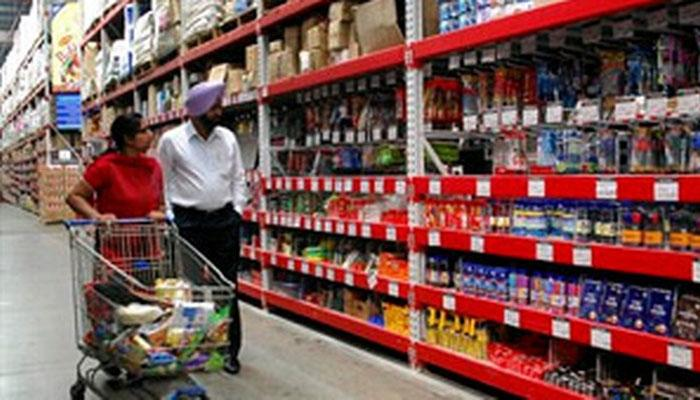Age_30_40: (184, 81, 230, 133), (110, 114, 163, 151)
E_Indian: (184, 81, 230, 133), (110, 114, 163, 151)
Emotion_Neutral: (184, 81, 230, 133), (110, 114, 163, 151)
G_ Female: (110, 114, 163, 151)
G_Male: (184, 81, 230, 133)
